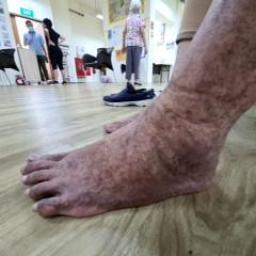Lateral View -Left Foot-: (8, 98, 250, 228)
